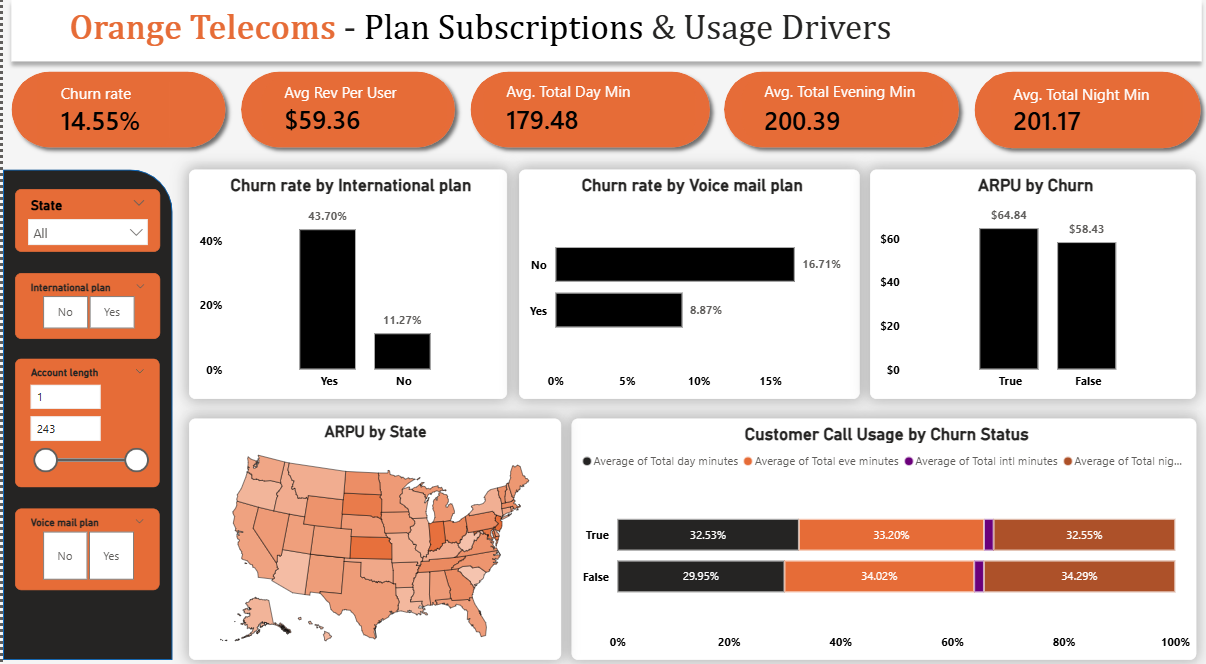

What the dashboard file says about the page in this screenshot:
{"tool":"powerbi","page":{"name":"Plan Sub","canvas":[1280,720],"ordinal":1},"visuals":[{"type":"shape","box":[0,76.3,245,98.6],"z":0},{"type":"shape","box":[0,0,1280,83.3],"z":1000},{"type":"textbox","box":[65.2,12.7,1029.1,68.4],"z":2000},{"type":"shape","box":[1021.5,75.9,257.9,99.5],"z":3000},{"type":"shape","box":[756.2,76.3,267.2,98.6],"z":4000},{"type":"shape","box":[486.1,76.3,272,98.6],"z":5000},{"type":"shape","box":[243.1,76.3,245,98.6],"z":6000},{"type":"cardVisual","title":"Churn Rate","fields":{"Data":["Measure.Churn rate"]},"box":[37.1,87.7,139.9,77.5],"z":7000},{"type":"cardVisual","title":"Churn Rate (Prev Month)","fields":{"Data":["Avg(Orange Telecom Churn.Total day minutes)"]},"box":[509.1,86,225.9,77.5],"z":8000},{"type":"cardVisual","title":"Churn MoM % Change","fields":{"Data":["Avg(Orange Telecom Churn.Total eve minutes)"]},"box":[782.2,87.7,214.1,75.9],"z":9000},{"type":"cardVisual","title":"CS Call Average ","fields":{"Data":["Avg(Orange Telecom Churn.Total night minutes)"]},"box":[1046.8,89.3,205.7,74.2],"z":10000},{"type":"cardVisual","title":"ARPU","fields":{"Data":["Measure.ARPU"]},"box":[273.1,89.3,197.2,72.5],"z":11000},{"type":"shape","box":[0,189.3,179.7,520.1],"z":12000},{"type":"slicer","fields":{"Values":["Orange Telecom Churn.State"]},"box":[12.8,210,154.3,66.8],"z":13000},{"type":"slicer","fields":{"Values":["Orange Telecom Churn.International plan"]},"box":[12.8,298.4,154.3,70],"z":14000},{"type":"slicer","fields":{"Values":["Orange Telecom Churn.Account length"]},"box":[13.3,390,153.3,136.7],"z":15000},{"type":"slicer","fields":{"Values":["Orange Telecom Churn.Voice mail plan"]},"box":[13.3,548.3,153.3,86.7],"z":16000},{"type":"clusteredColumnChart","fields":{"Category":["Orange Telecom Churn.International plan"],"Y":["Measure.Churn rate"]},"box":[197.2,189.3,337.2,243.4],"z":17000},{"type":"clusteredBarChart","fields":{"Y":["Measure.Churn rate"],"Category":["Orange Telecom Churn.Voice mail plan"]},"box":[547.2,189.3,361.1,243.4],"z":18000},{"type":"columnChart","fields":{"Category":["Orange Telecom Churn.Churn"],"Y":["Measure.ARPU"]},"box":[919.4,189.3,345.2,243.4],"z":19000},{"type":"hundredPercentStackedBarChart","title":"Customer Call Usage by Churn Status","fields":{"Category":["Orange Telecom Churn.Churn"],"Y":["Avg(Orange Telecom Churn.Total day minutes)","Avg(Orange Telecom Churn.Total eve minutes)","Avg(Orange Telecom Churn.Total intl minutes)","Avg(Orange Telecom Churn.Total night minutes)"]},"box":[603.5,453.5,662.5,256.2],"z":20000},{"type":"shapeMap","fields":{"Category":["Orange Telecom Churn.State"],"Value":["Measure.ARPU"]},"box":[197.2,453.3,394.5,256.1],"z":21000},{"type":"actionButton","box":[1111.8,22.3,100.2,39.8],"z":21001}]}

Visuals, with their boxes in screenshot pixels (x1, y1, x2, y2), scaled from the page's 1280x720 canvas onto the 1206x664 screenshot:
shape: 0 70 231 161
shape: 0 0 1205 77
textbox: 61 12 1031 75
shape: 962 70 1205 162
shape: 712 70 964 161
shape: 458 70 714 161
shape: 229 70 460 161
"Churn Rate" cardVisual: 35 81 167 152
"Churn Rate (Prev Month)" cardVisual: 480 79 693 151
"Churn MoM % Change" cardVisual: 737 81 939 151
"CS Call Average " cardVisual: 986 82 1180 151
"ARPU" cardVisual: 257 82 443 149
shape: 0 175 169 654
slicer - Orange Telecom Churn.State: 12 194 157 255
slicer - Orange Telecom Churn.International plan: 12 275 157 340
slicer - Orange Telecom Churn.Account length: 13 360 157 486
slicer - Orange Telecom Churn.Voice mail plan: 13 506 157 586
clusteredColumnChart - Orange Telecom Churn.International plan x Measure.Churn rate: 186 175 504 399
clusteredBarChart - Measure.Churn rate x Orange Telecom Churn.Voice mail plan: 516 175 856 399
columnChart - Orange Telecom Churn.Churn x Measure.ARPU: 866 175 1191 399
"Customer Call Usage by Churn Status" hundredPercentStackedBarChart: 569 418 1193 655
shapeMap - Orange Telecom Churn.State x Measure.ARPU: 186 418 557 654
actionButton: 1048 21 1142 57
